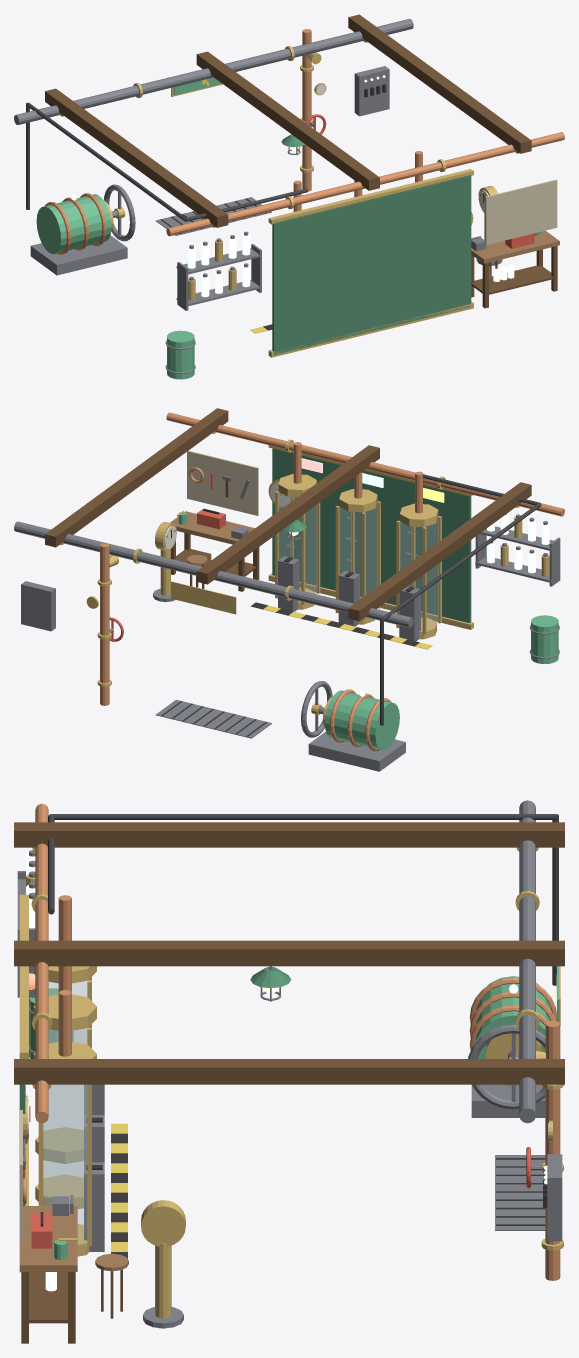
The model's file is power_room.glb.
3 views of the same model, one above another, from view 1: azimuth 30°, elevation 25°; view 2: azimuth 150°, elevation 25°; view 3: azimuth 270°, elevation 25° (orthographic). The views are drawn at different scales.
Visible parts, largest first — view 1: power_wall_panel, ceiling_beam_2, ceiling_beam_1, ceiling_beam_0, ceiling_pipe_iron, pegboard, ceiling_pipe_copper, dynamo_housing, col_dynamo_base, fuse_box, power_wall_trim_top, col_oil_barrel (+11 smaller); view 2: power_wall_panel, ceiling_beam_2, ceiling_beam_1, ceiling_beam_0, ceiling_pipe_iron, pegboard, dynamo_housing, tube_1_glass, ceiling_pipe_copper, tube_0_glass, col_dynamo_base, floor_grate (+22 smaller); view 3: ceiling_beam_1, ceiling_beam_2, ceiling_beam_0, tube_2_glass, ceiling_pipe_iron, tube_1_glass, ceiling_pipe_copper, floor_grate, ceiling_cable_across, col_workbench_top, steam_pipe, workbench_shelf (+17 smaller).
Part boxes in pixels (left/top/right/bottom): power_wall_panel: left=272, top=175, right=471, bottom=354; ceiling_beam_2: left=348, top=14, right=531, bottom=153; ceiling_beam_1: left=196, top=51, right=379, bottom=190; ceiling_beam_0: left=45, top=88, right=228, bottom=227; ceiling_pipe_iron: left=14, top=19, right=413, bottom=124; pegboard: left=485, top=179, right=557, bottom=244; ceiling_pipe_copper: left=166, top=132, right=564, bottom=236; dynamo_housing: left=36, top=194, right=111, bottom=254; col_dynamo_base: left=30, top=235, right=127, bottom=275; fuse_box: left=354, top=66, right=389, bottom=116; power_wall_trim_top: left=268, top=169, right=473, bottom=224; col_oil_barrel: left=167, top=330, right=194, bottom=379; power_wall_panel: left=272, top=448, right=471, bottom=623; ceiling_beam_2: left=45, top=408, right=228, bottom=547; ceiling_beam_1: left=196, top=445, right=379, bottom=584; ceiling_beam_0: left=348, top=482, right=531, bottom=621; ceiling_pipe_iron: left=14, top=521, right=413, bottom=627; pegboard: left=187, top=450, right=258, bottom=515; dynamo_housing: left=325, top=690, right=399, bottom=750; tube_1_glass: left=339, top=503, right=377, bottom=608; ceiling_pipe_copper: left=166, top=412, right=564, bottom=516; tube_0_glass: left=400, top=517, right=438, bottom=632; col_dynamo_base: left=308, top=731, right=405, bottom=771; floor_grate: left=155, top=699, right=271, bottom=738; ceiling_beam_1: left=14, top=940, right=564, bottom=966; ceiling_beam_2: left=14, top=1059, right=564, bottom=1084; ceiling_beam_0: left=14, top=822, right=564, bottom=847; tube_2_glass: left=43, top=1085, right=86, bottom=1244; ceiling_pipe_iron: left=519, top=800, right=535, bottom=1123; tube_1_glass: left=43, top=1028, right=87, bottom=1197; ceiling_pipe_copper: left=35, top=803, right=48, bottom=1123; floor_grate: left=495, top=1155, right=545, bottom=1230; ceiling_cable_across: left=52, top=814, right=555, bottom=819; col_workbench_top: left=19, top=1206, right=77, bottom=1271; steam_pipe: left=545, top=1020, right=560, bottom=1280; workbench_shelf: left=29, top=1272, right=67, bottom=1323.
Bounding box in the file's own units: 7.8 × 3 × 5.9.
